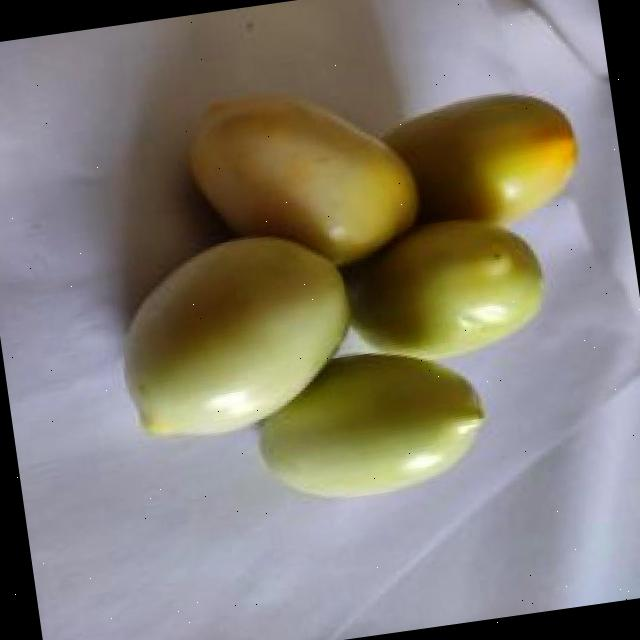tomato: (122, 235, 352, 438), (248, 339, 495, 512), (186, 90, 419, 265), (341, 219, 547, 361), (376, 92, 577, 228)
